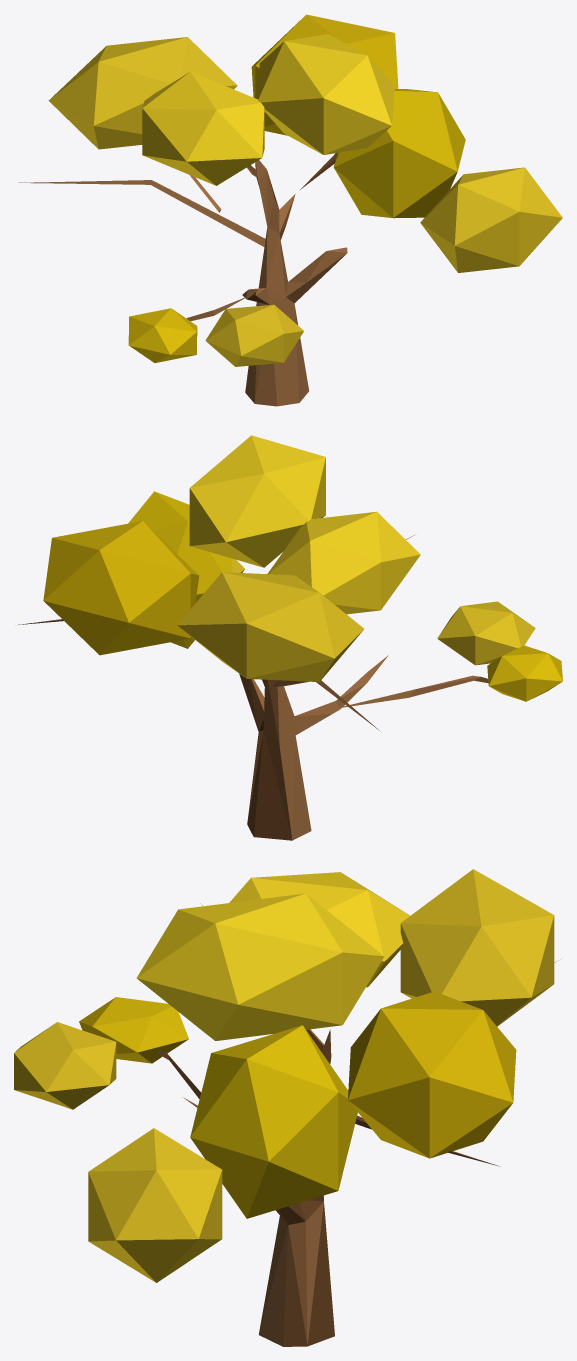
File: yellow_oak_bloom_far.glb
3 renders of one model, top to bottom at view 1: azimuth 30°, elevation 25°; view 2: azimuth 150°, elevation 25°; view 3: azimuth 270°, elevation 25°, orthographic. The views are drawn at different scales.
Visible parts, largest first — view 1: yellow_oak_bloom_far; view 2: yellow_oak_bloom_far; view 3: yellow_oak_bloom_far.
Part boxes in pixels (left/top/right/bottom): yellow_oak_bloom_far: left=18, top=14, right=562, bottom=406; yellow_oak_bloom_far: left=18, top=435, right=562, bottom=840; yellow_oak_bloom_far: left=14, top=869, right=560, bottom=1346.
Size of the model in its own units: 8.05 by 6.24 by 7.
